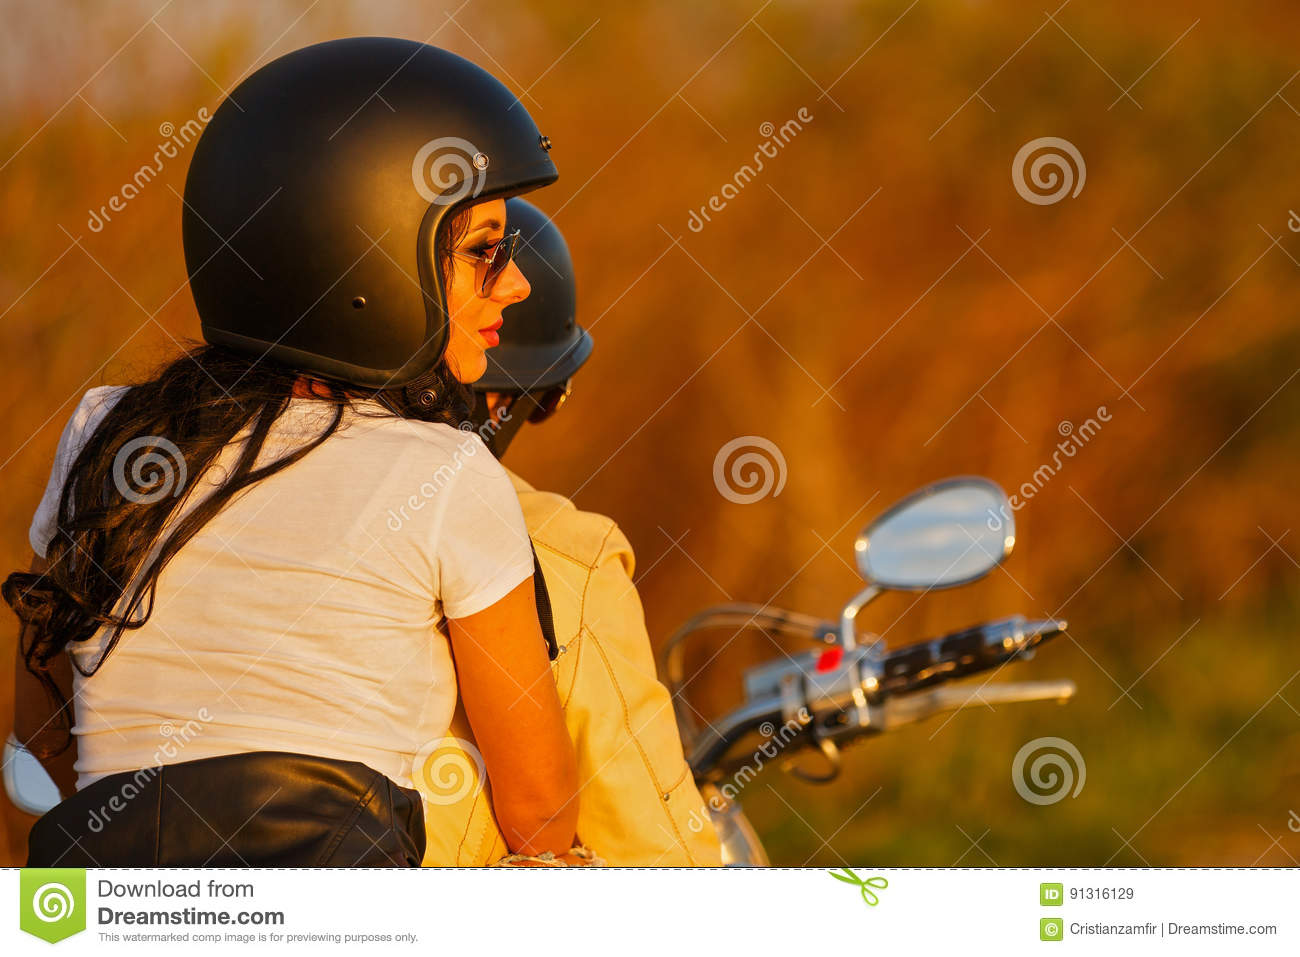helmet: (183, 54, 552, 349)
